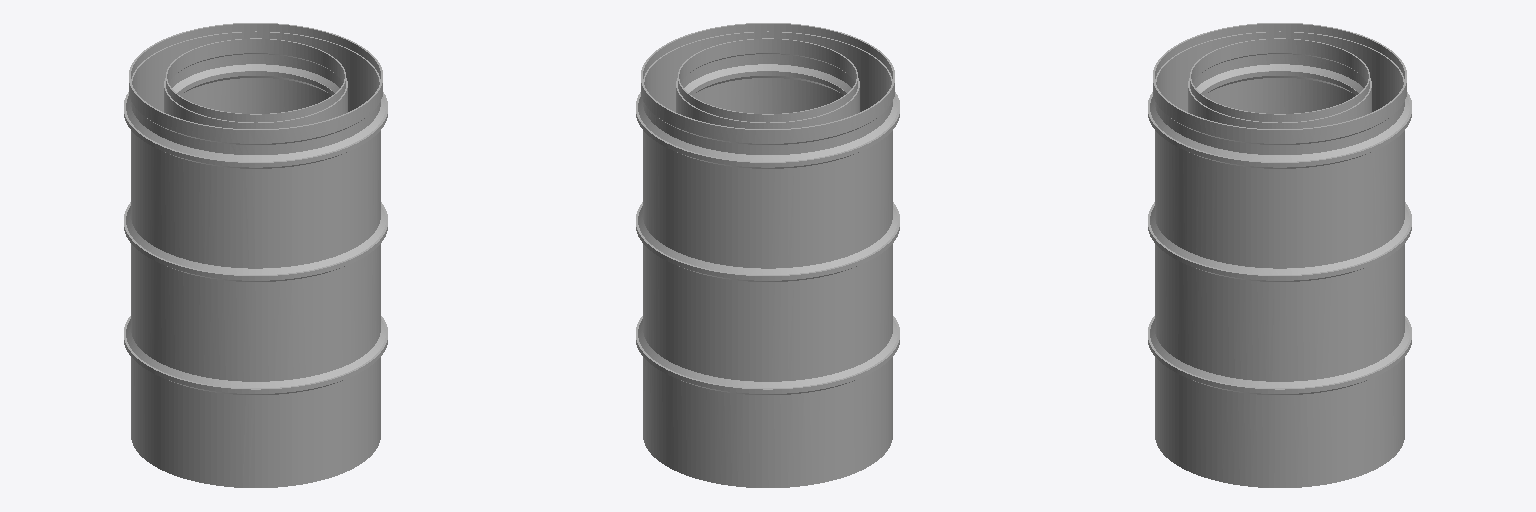
File: PechFormaTubeB.obj
3 views of the same model, side by side, from view 1: azimuth 30°, elevation 25°; view 2: azimuth 150°, elevation 25°; view 3: azimuth 270°, elevation 25° (orthographic).
Visible parts, largest first — view 1: Solid1; view 2: Solid1; view 3: Solid1.
Boxes of the visible parts, x1,y1,x2,y2 form: Solid1: [124, 23, 387, 487]; Solid1: [636, 23, 899, 487]; Solid1: [1148, 23, 1411, 487].
Size of the model in its own units: 212 by 317 by 212.